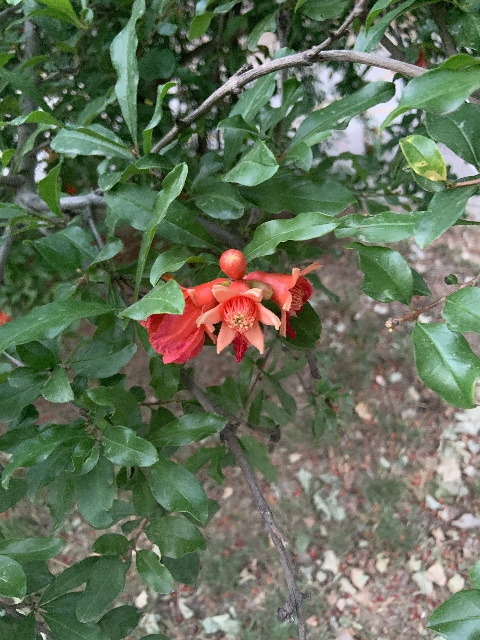bud: (219, 248, 247, 280), (249, 280, 273, 300)
flower: (139, 273, 230, 364), (198, 280, 282, 363), (244, 260, 323, 339)
